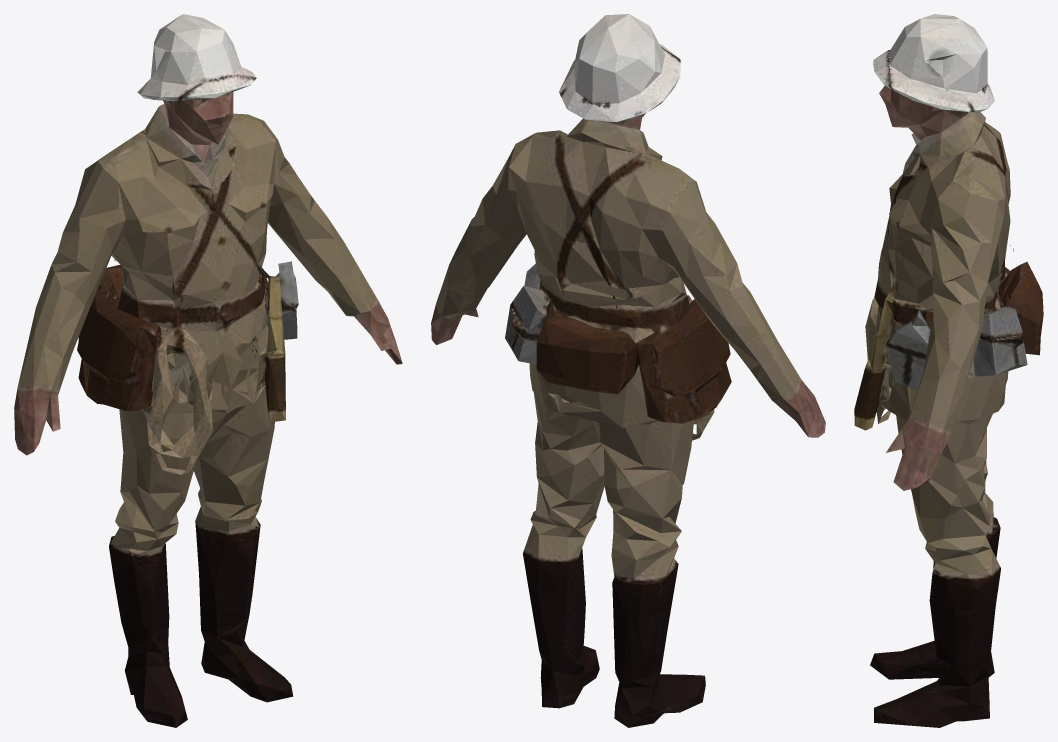
File: realistic-cc0.f77cec64a90b.explorer.glb
3 renders of one model, left to right at view 1: azimuth 30°, elevation 25°; view 2: azimuth 150°, elevation 25°; view 3: azimuth 270°, elevation 25°, orthographic.
Visible parts, largest first — view 1: explorer; view 2: explorer; view 3: explorer.
Part boxes in pixels (<box>): explorer: <box>14,14,402,727</box>; explorer: <box>431,14,825,727</box>; explorer: <box>854,14,1043,727</box>.
Bounding box in the file's own units: 1.06 × 1.8 × 0.4557.
1 material, 1 textured.
